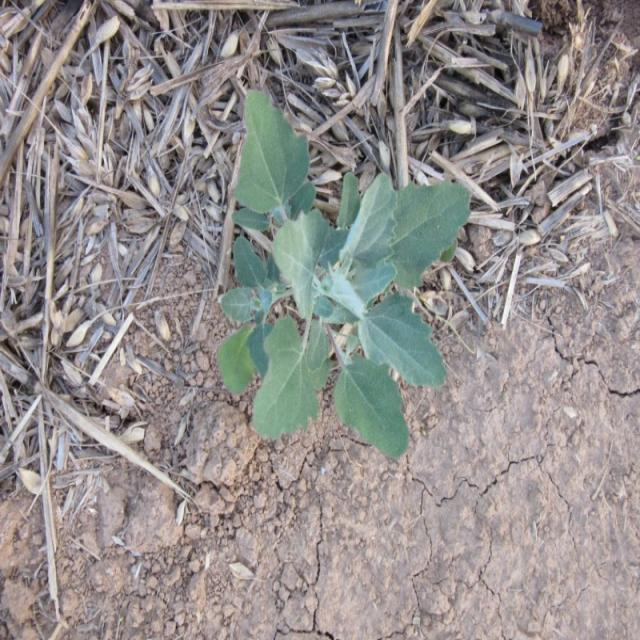ca: (217, 92, 470, 460)
